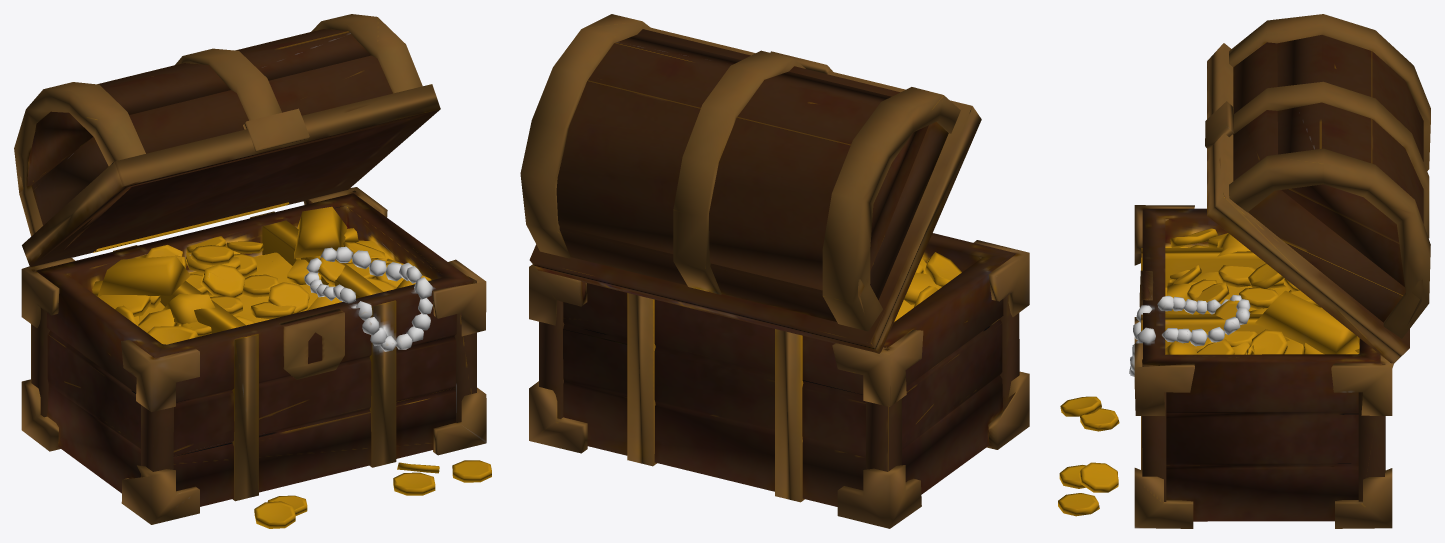
Rendered from treasure.glb.
The picture shows the model from 3 angles, left to right: view 1: azimuth 30°, elevation 25°; view 2: azimuth 150°, elevation 25°; view 3: azimuth 270°, elevation 25°; orthographic projection. The views are drawn at different scales.
Visible parts, largest first — view 1: geometry_0; view 2: geometry_0; view 3: geometry_0.
Part boxes in pixels (left/top/right/bottom): geometry_0: left=14, top=14, right=491, bottom=528; geometry_0: left=520, top=14, right=1029, bottom=528; geometry_0: left=1058, top=14, right=1430, bottom=528.
Bounding box in the file's own units: 0.9316 × 0.9521 × 0.897.
Materials: 1 (1 with a texture image).
